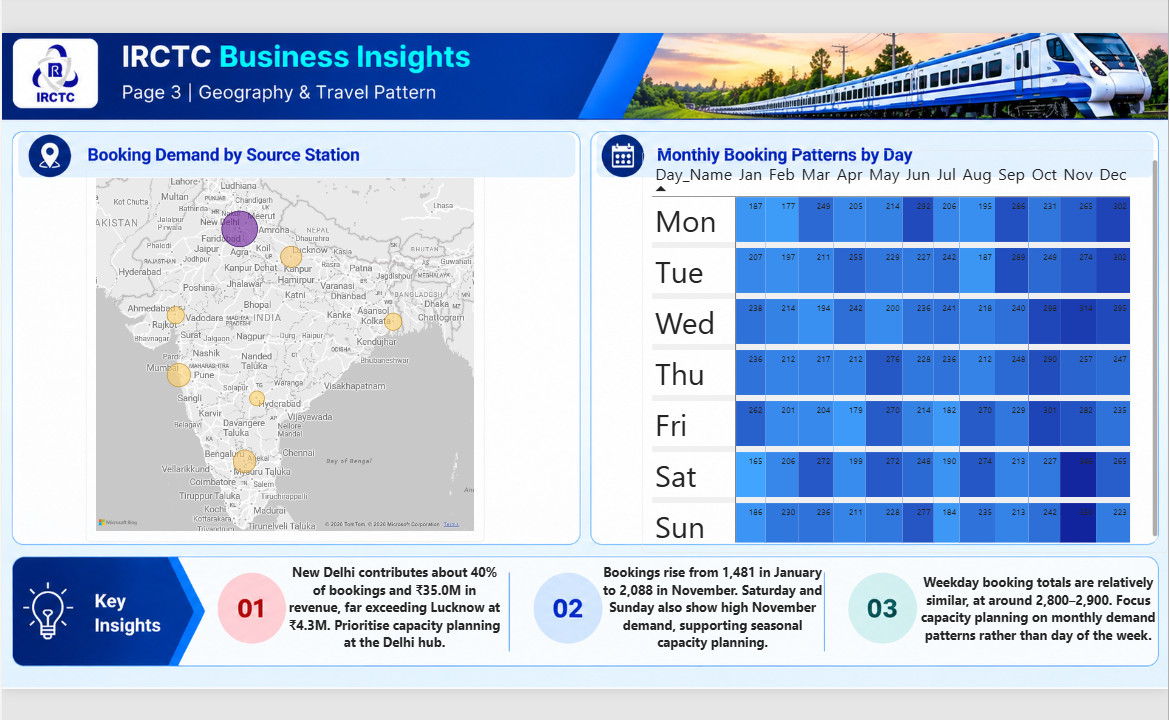

The page's visual inventory and layout, read from the dashboard file:
{"tool":"powerbi","page":{"name":"Demand by Location and Time","canvas":[1920,1080],"ordinal":2},"visuals":[{"type":"pivotTable","title":"Monthly Booking Patterns By Day","fields":{"Columns":["Date_Table.Month_Name"],"Rows":["Date_Table.Day_Name"],"Values":["irctc_Data.Total Bookings"]},"box":[1053.9,193.5,866.6,662.8],"z":0},{"type":"map","title":"Booking Demand by Source Station","fields":{"Category":["irctc_Data.Source_Station"],"Size":["irctc_Data.Total Bookings"]},"box":[137.9,224.4,656.6,613.4],"z":1000},{"type":"textbox","box":[773.9,59.7,321.1,94.7],"z":2000},{"type":"textbox","box":[467.2,872.7,358.1,168.8],"z":2001},{"type":"textbox","box":[983.9,872.7,372.6,168.8],"z":2002},{"type":"textbox","box":[1506.7,889.2,399.3,152.3],"z":2003}]}

Visuals, with their boxes on the page's 1920x1080 design canvas (x1, y1, x2, y2). These are canvas units, not pixel positions in the 1170x720 screenshot, which may show the page scaled, cropped or inside an application window:
"Monthly Booking Patterns By Day" pivotTable: detection(1054, 194, 1920, 856)
"Booking Demand by Source Station" map: detection(138, 224, 794, 838)
textbox: detection(774, 60, 1095, 154)
textbox: detection(467, 873, 825, 1042)
textbox: detection(984, 873, 1356, 1042)
textbox: detection(1507, 889, 1906, 1042)
